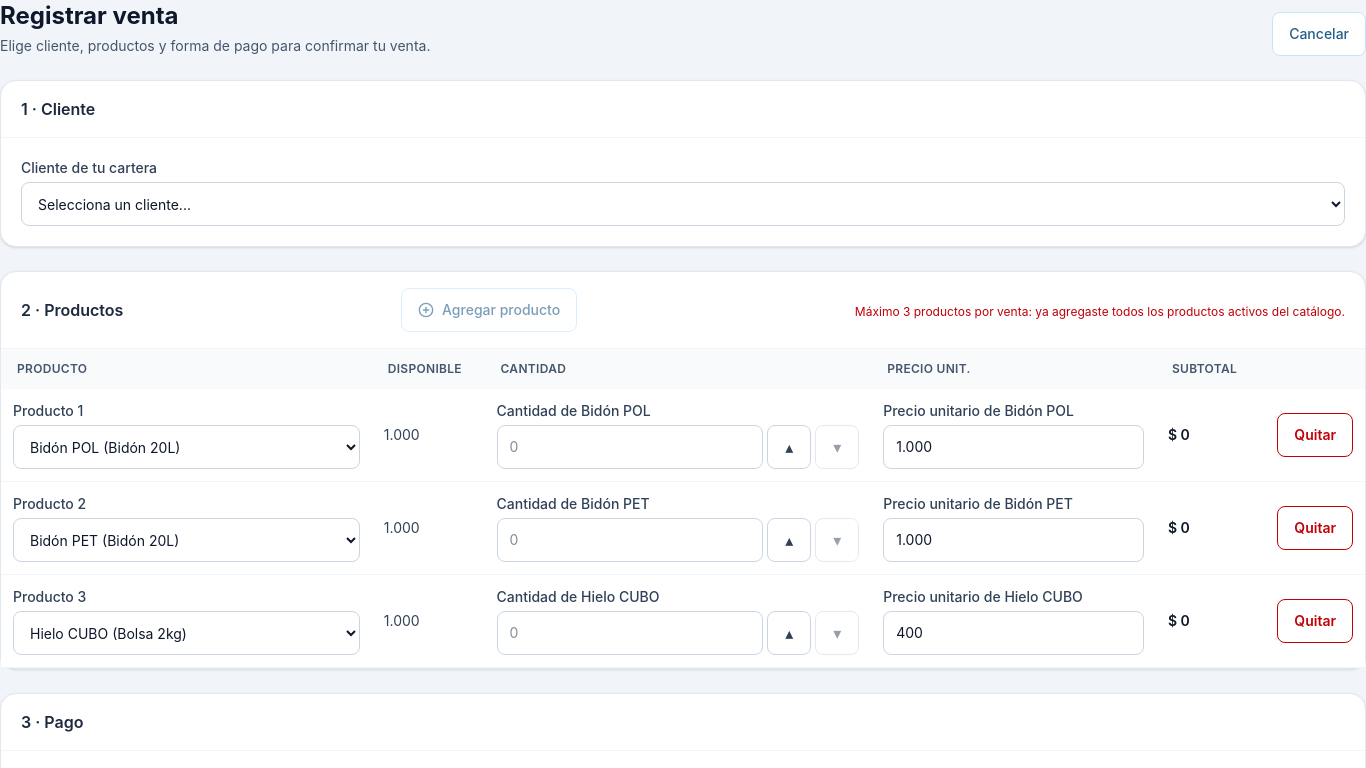
Scenario: UX-05/A1-06 · éxito conserva folio completo y refresca carga una sola vez
Check: the heading "Registrar venta" is shown, box [0,1,178,30]
Select "Doña María" in the dropdown labelled "Cliente de tu cartera": (683, 204) [21,182,1345,226]
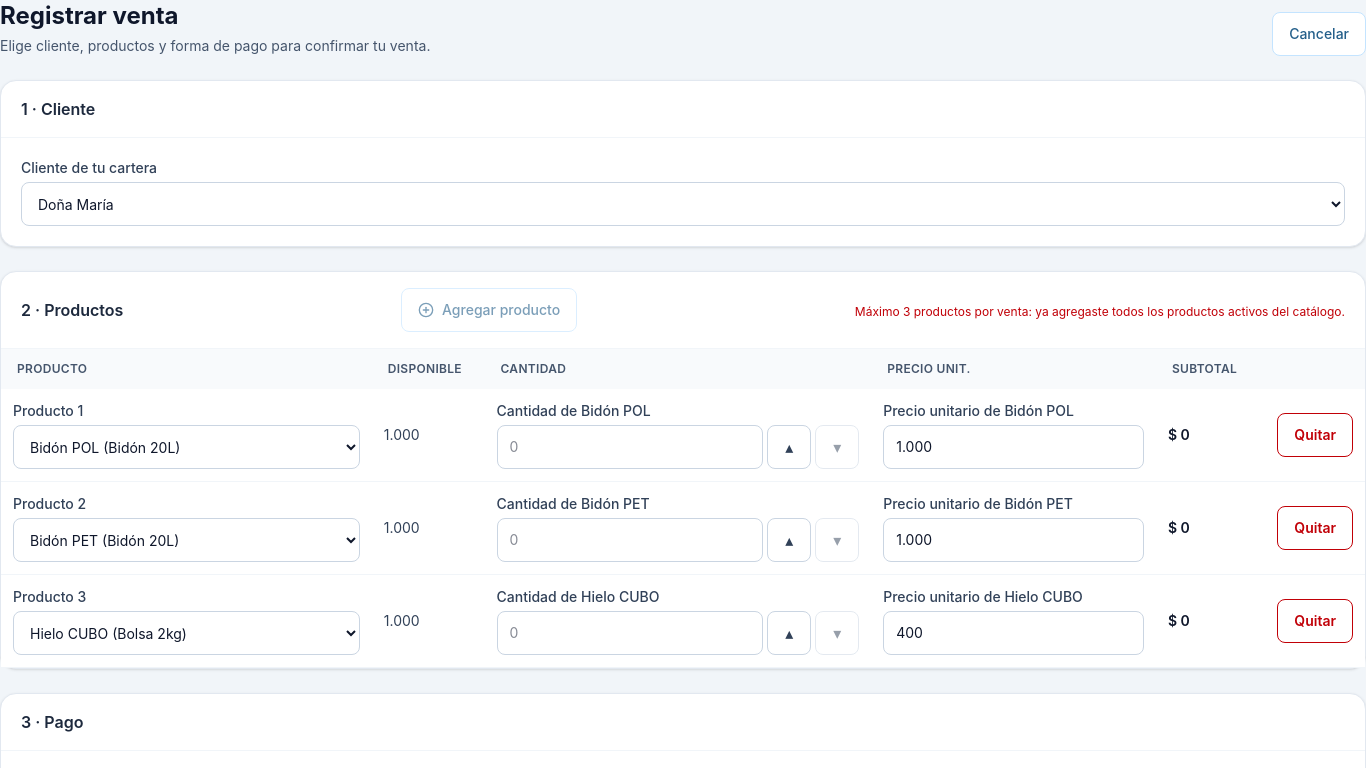
In the field labelled "Cantidad de Bidón POL": (630, 447) [496,425,763,469], type "2"
(page scrolled)
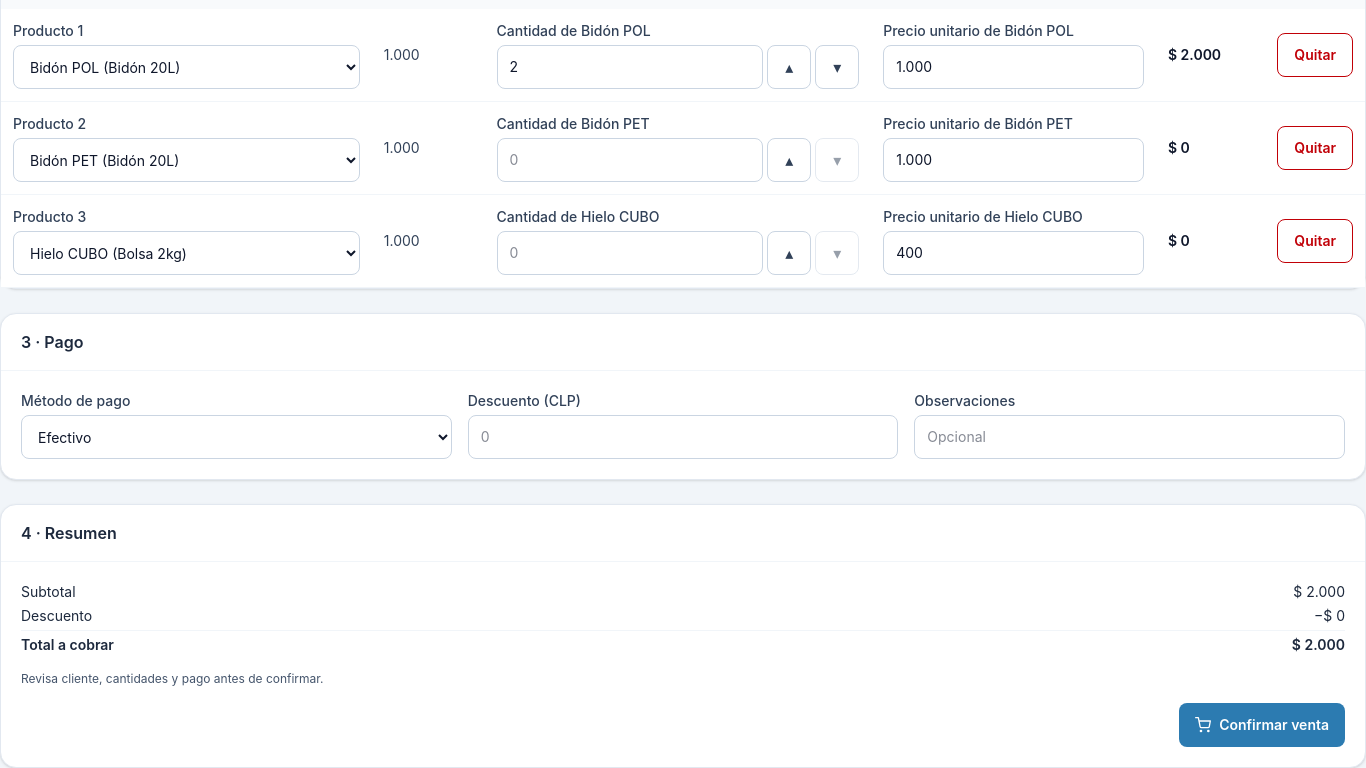
Click the button "Confirmar venta": (1262, 725) [1179,703,1345,747]
(page scrolled)
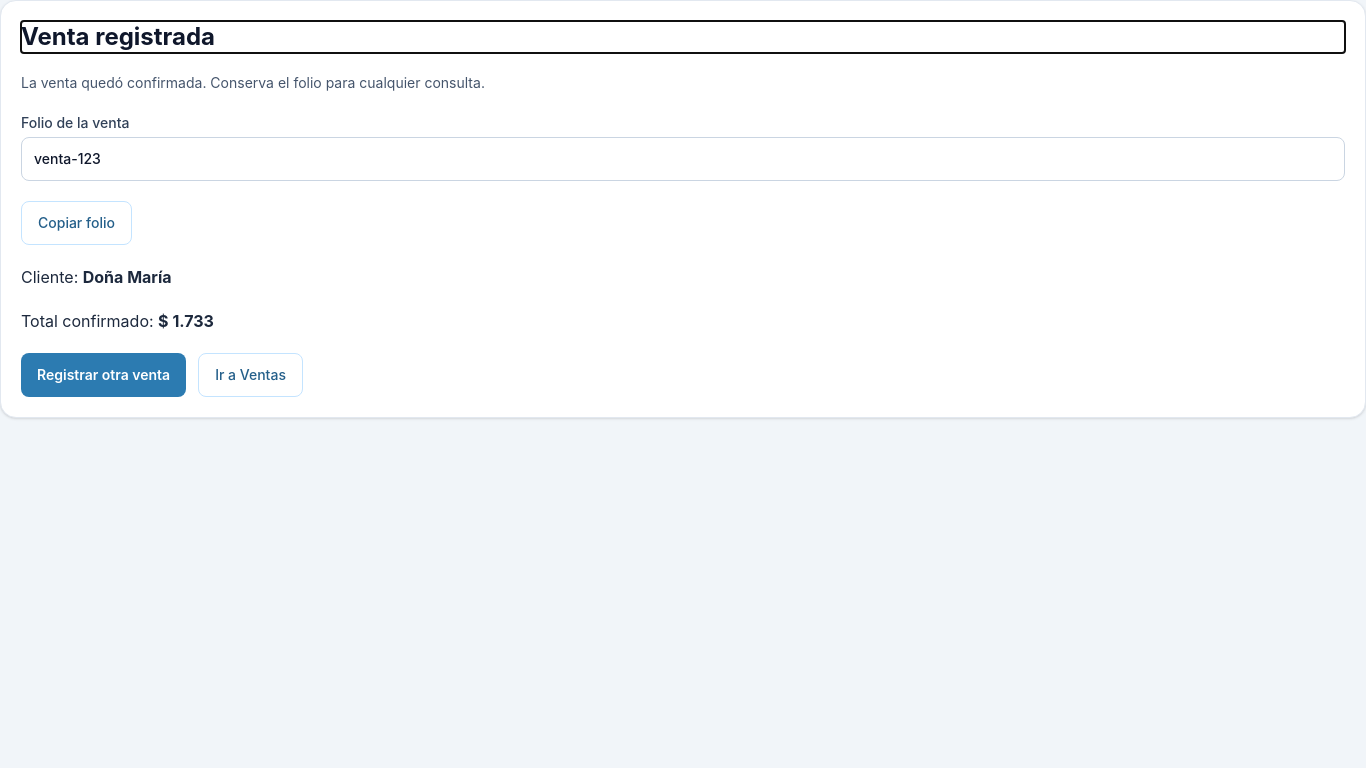
Check: the heading "Venta registrada" is shown, box [21,22,215,51]
Check: the field labelled "Folio de la venta" holds "venta-123", box [21,137,1345,181]
Check: the button "Registrar otra venta" is shown, box [21,353,186,397]
